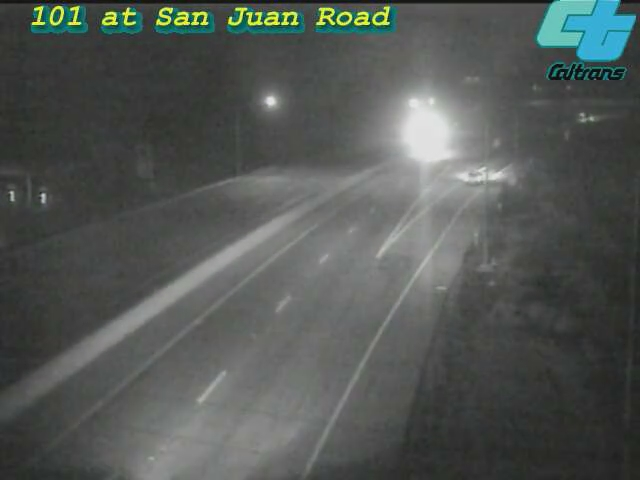vehicle: (430, 140, 510, 220), (395, 106, 445, 156), (560, 93, 610, 143), (413, 128, 463, 178)
